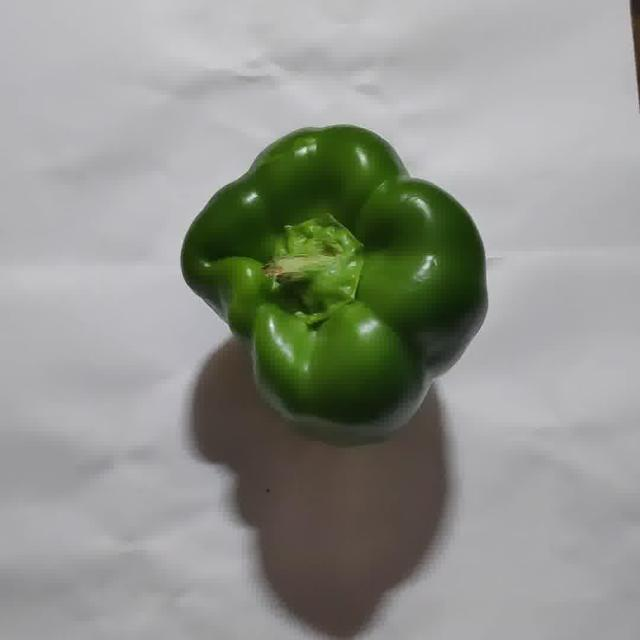Bell Pepper: (181, 126, 486, 431)
